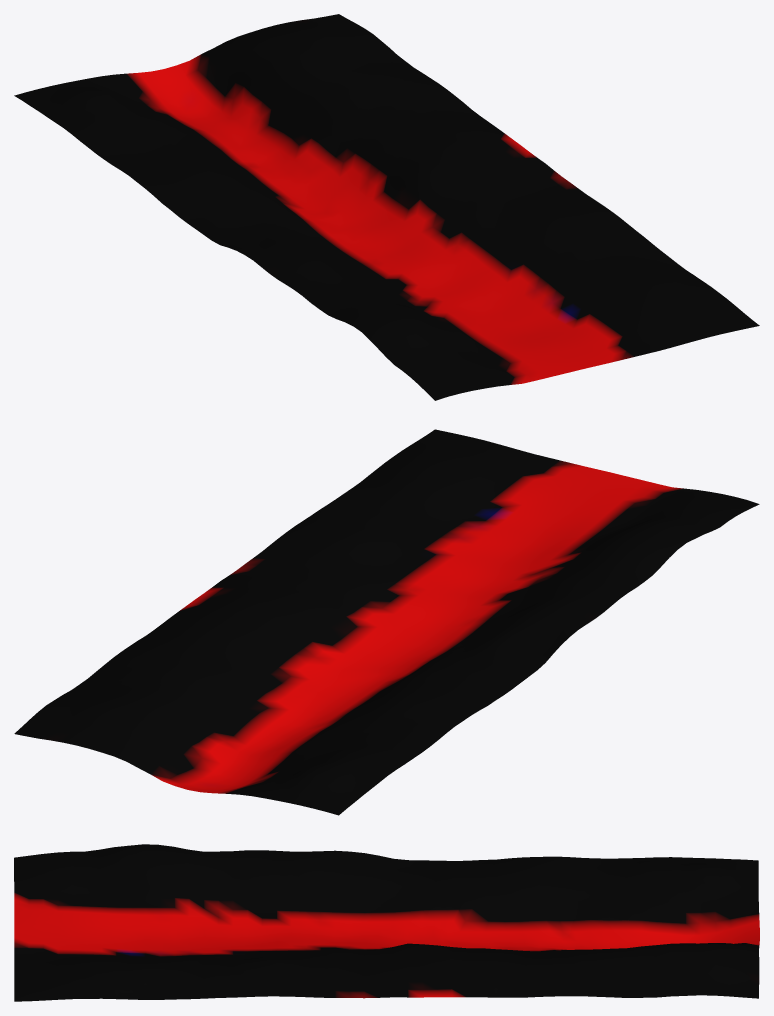
3 views of the same model, one above another, from view 1: azimuth 30°, elevation 25°; view 2: azimuth 150°, elevation 25°; view 3: azimuth 270°, elevation 25° (orthographic). The views are drawn at different scales.
Visible parts, largest first — view 1: Plane; view 2: Plane; view 3: Plane.
Part boxes in pixels (x1,y1,x2,y2): Plane: (14, 14, 759, 400); Plane: (14, 429, 759, 815); Plane: (14, 844, 759, 1001).
Size of the model in its own units: 5175 by 778 by 11571.
